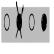correct: (41, 12, 47, 31)
not correct: (15, 1, 24, 40)
